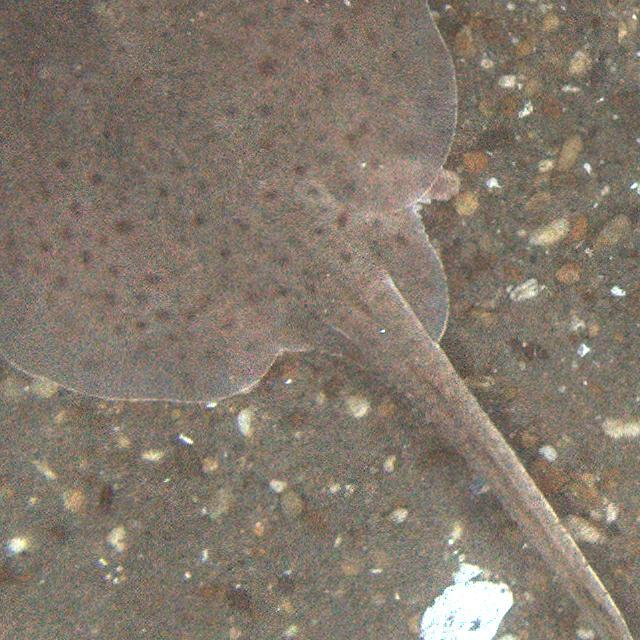skate: (0, 3, 632, 615)
